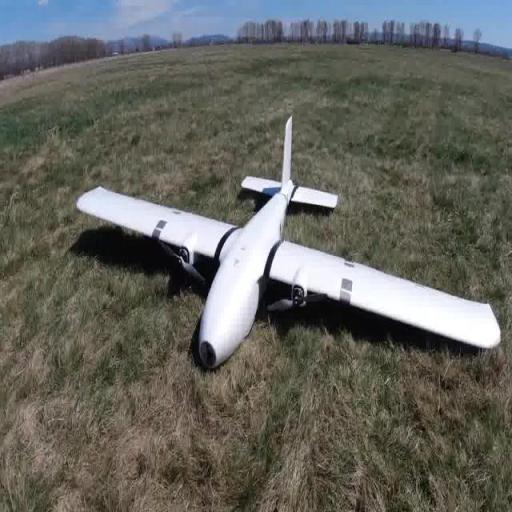uav: (69, 116, 505, 370)
